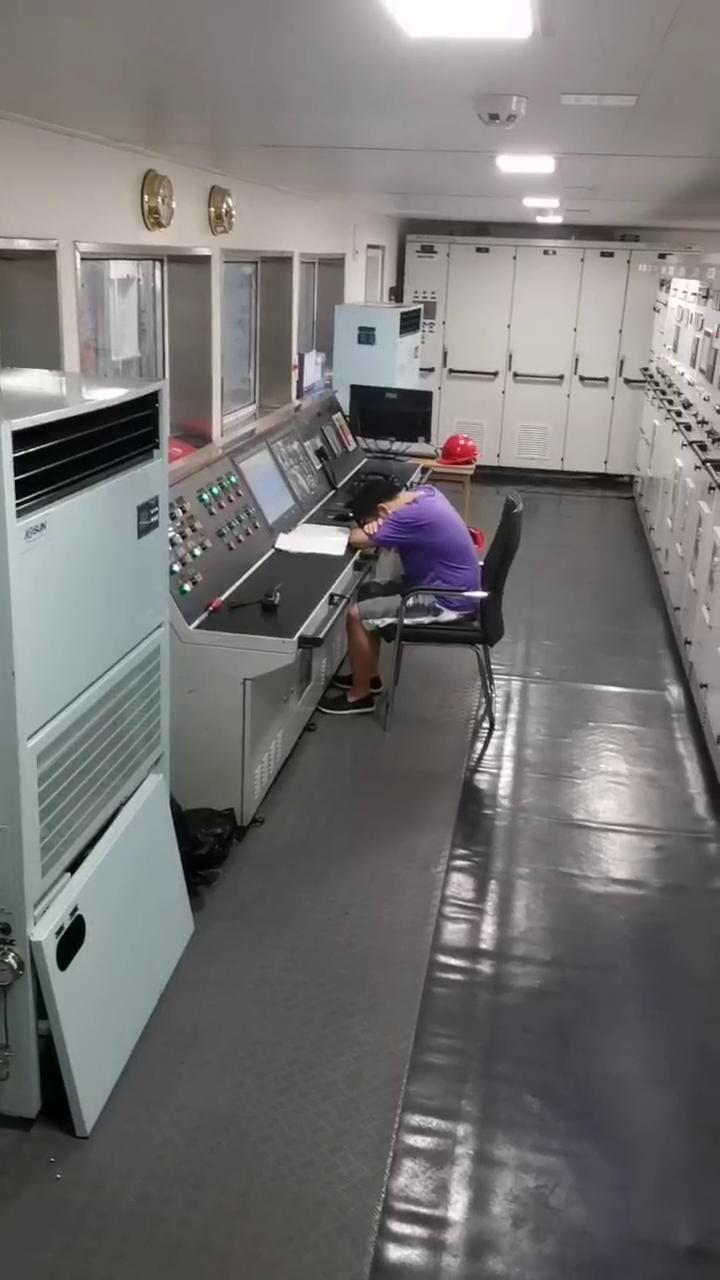sleep: (341, 482, 489, 636)
